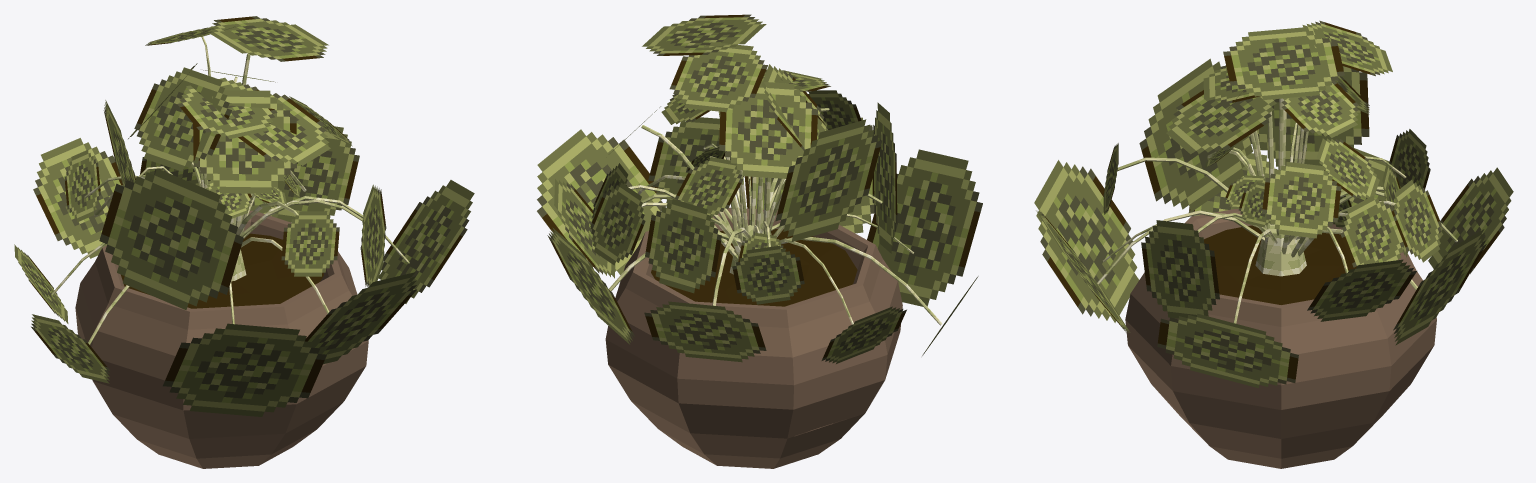
File: plant_pilea.gltf
The picture shows the model from 3 angles, left to right: view 1: azimuth 30°, elevation 25°; view 2: azimuth 150°, elevation 25°; view 3: azimuth 270°, elevation 25°; orthographic projection. The views are drawn at different scales.
Parts seen in each view (by area): view 1: Pot, Leaf_010, Leaf_026, Leaf_004, Leaf_014, Leaf_006, Leaf_025, Leaf_009, Soil, Leaf_016, Leaf_000, Leaf_012 (+11 smaller); view 2: Pot, Leaf_026, Leaf_022, Leaf_003, Leaf_014, Leaf_030, Leaf_025, Leaf_002, Soil, Leaf_000, Leaf_017, Leaf_024 (+14 smaller); view 3: Pot, Leaf_026, Leaf_014, Leaf_000, Leaf_010, Soil, Leaf_008, Leaf_021, Leaf_007, Leaf_016, Leaf_025, Leaf_018 (+18 smaller).
Boxes of the visible parts, x1=… form: Pot: x1=75, y1=210, x2=368, y2=468; Leaf_010: x1=99, y1=168, x2=243, y2=309; Leaf_026: x1=163, y1=323, x2=326, y2=416; Leaf_004: x1=134, y1=67, x2=231, y2=171; Leaf_014: x1=378, y1=180, x2=474, y2=303; Leaf_006: x1=193, y1=90, x2=296, y2=193; Leaf_025: x1=33, y1=138, x2=122, y2=258; Leaf_009: x1=305, y1=272, x2=416, y2=364; Soil: x1=121, y1=233, x2=323, y2=308; Leaf_016: x1=269, y1=126, x2=359, y2=222; Leaf_000: x1=208, y1=16, x2=328, y2=61; Leaf_012: x1=281, y1=211, x2=339, y2=276; Pot: x1=605, y1=207, x2=902, y2=468; Leaf_026: x1=867, y1=149, x2=982, y2=306; Leaf_022: x1=775, y1=119, x2=882, y2=242; Leaf_003: x1=719, y1=81, x2=817, y2=178; Leaf_014: x1=537, y1=129, x2=665, y2=274; Leaf_030: x1=645, y1=199, x2=721, y2=293; Leaf_025: x1=644, y1=301, x2=766, y2=362; Leaf_002: x1=669, y1=42, x2=767, y2=112; Soil: x1=651, y1=229, x2=857, y2=306; Leaf_000: x1=642, y1=14, x2=766, y2=55; Leaf_017: x1=732, y1=245, x2=804, y2=304; Leaf_024: x1=590, y1=183, x2=645, y2=265; Pot: x1=1125, y1=209, x2=1436, y2=468; Leaf_026: x1=1034, y1=160, x2=1138, y2=322; Leaf_014: x1=1157, y1=313, x2=1298, y2=388; Leaf_000: x1=1223, y1=27, x2=1344, y2=100; Leaf_010: x1=1139, y1=58, x2=1252, y2=212; Soil: x1=1204, y1=225, x2=1356, y2=304; Leaf_008: x1=1141, y1=220, x2=1219, y2=318; Leaf_021: x1=1262, y1=162, x2=1341, y2=238; Leaf_007: x1=1166, y1=90, x2=1276, y2=154; Leaf_016: x1=1307, y1=259, x2=1416, y2=321; Leaf_025: x1=1428, y1=167, x2=1513, y2=273; Leaf_018: x1=1393, y1=229, x2=1486, y2=345.
Bounding box in the file's own units: 3.88 × 3.48 × 3.85.
Materials: 4 (4 with a texture image).
